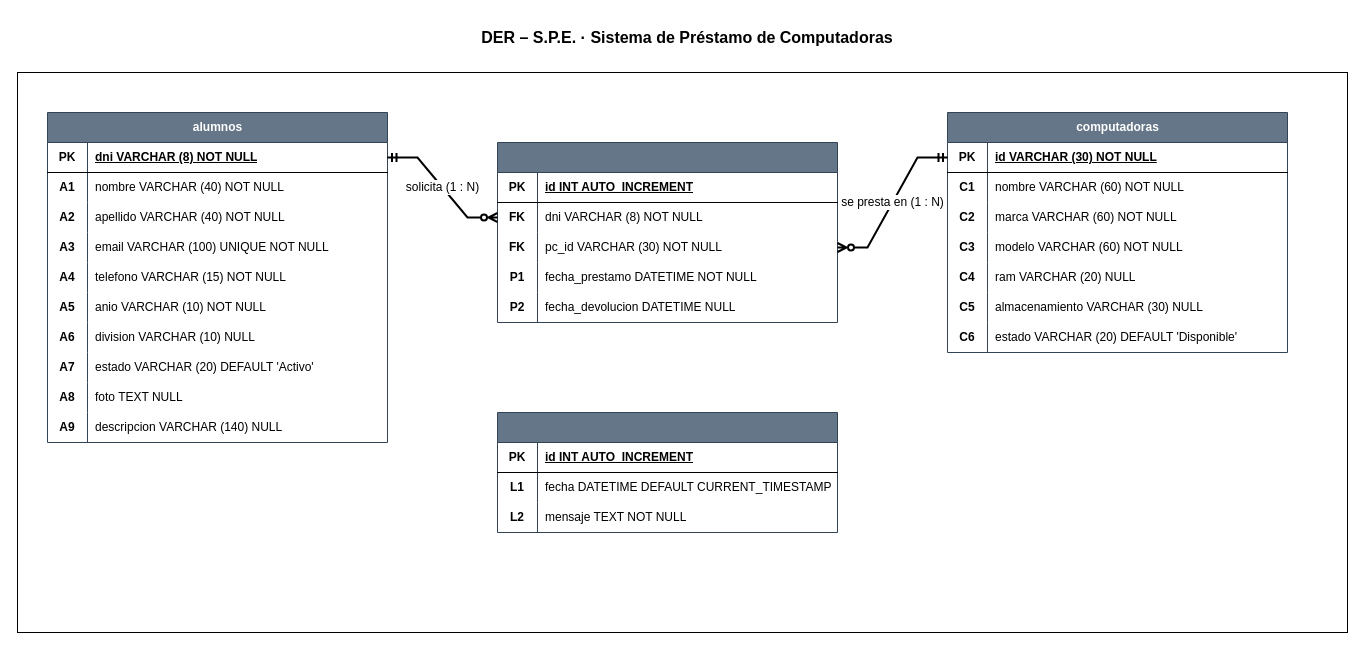
Some shapes in this 1365 by 650 pixel diagram are drawn without their labels. The box of each missing label's shape, as (x1, y1, x2, y2) in pixels:
prestamos: (496, 142, 838, 322)
registro_actividad: (496, 412, 838, 532)
